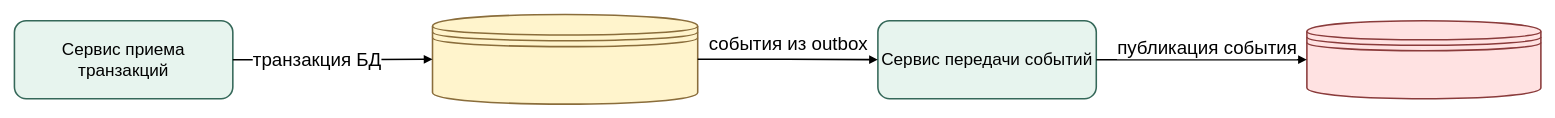
The diagram is 1555 pixels wide and 118 high, and some of its shapes have lost their labels. The shapes that lost their labels are listed below. From the top down, each one's centre as x and y in pixels, then its label:
At pixel 564 59: "PostgreSQL таблица событий".
At pixel 1423 59: "Kafka transactions.events".
